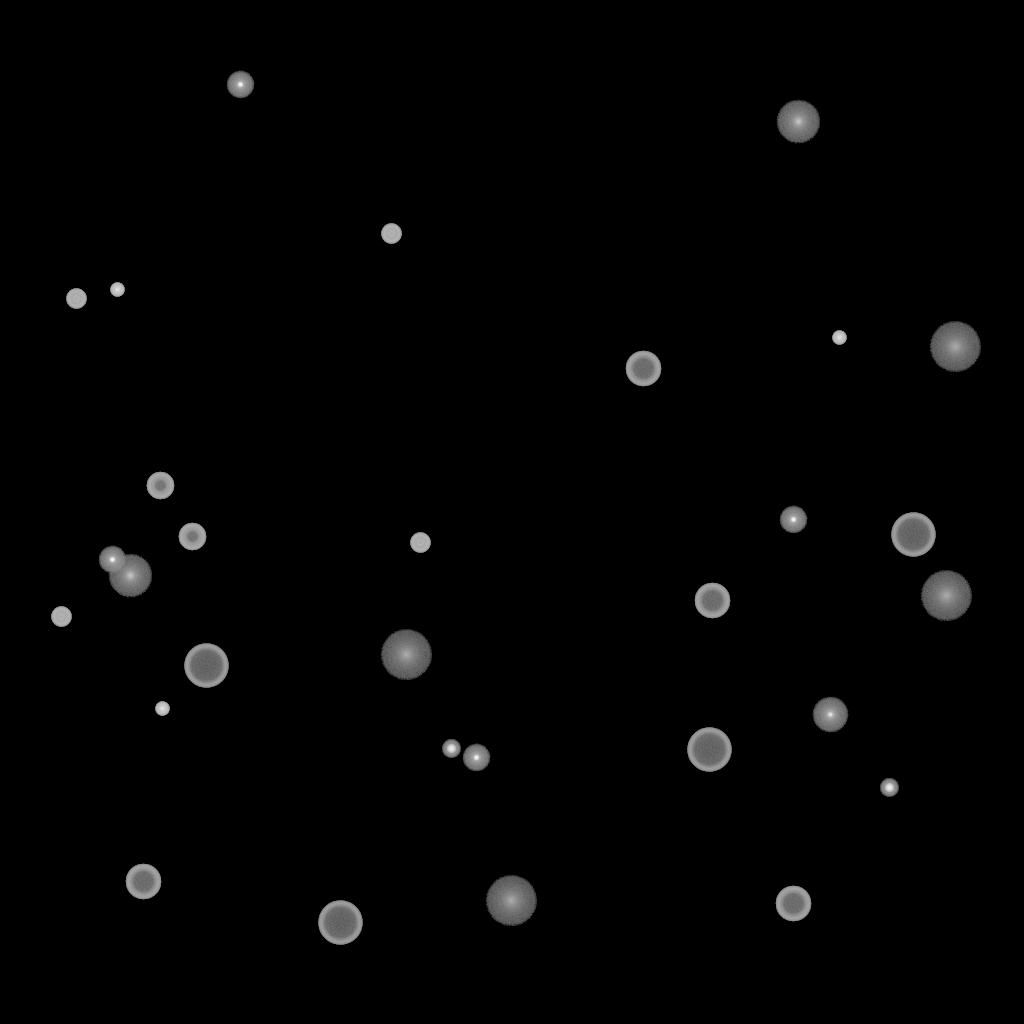depth:-10: (462, 744, 490, 772), (779, 506, 807, 534), (98, 546, 126, 574), (226, 71, 254, 99)
depth:-20: (880, 779, 898, 797), (442, 740, 460, 758)
depth:-30: (110, 283, 124, 297), (832, 331, 846, 345), (155, 702, 169, 716)
depth:-40: (410, 533, 430, 553), (51, 607, 71, 627), (66, 289, 86, 309), (381, 224, 401, 244)
depth:-50: (178, 523, 206, 551), (146, 472, 174, 500)
depth:-60: (694, 583, 730, 619), (625, 351, 661, 387), (775, 886, 811, 922), (125, 864, 161, 900)
depth:-70: (184, 644, 228, 688), (318, 901, 362, 945), (891, 513, 935, 557), (687, 728, 731, 772)
depth:0: (812, 697, 848, 733)
depth:10: (108, 554, 152, 598), (776, 100, 820, 144)
depth:20: (929, 322, 981, 372), (485, 876, 537, 926), (920, 571, 972, 621), (380, 630, 432, 680)
